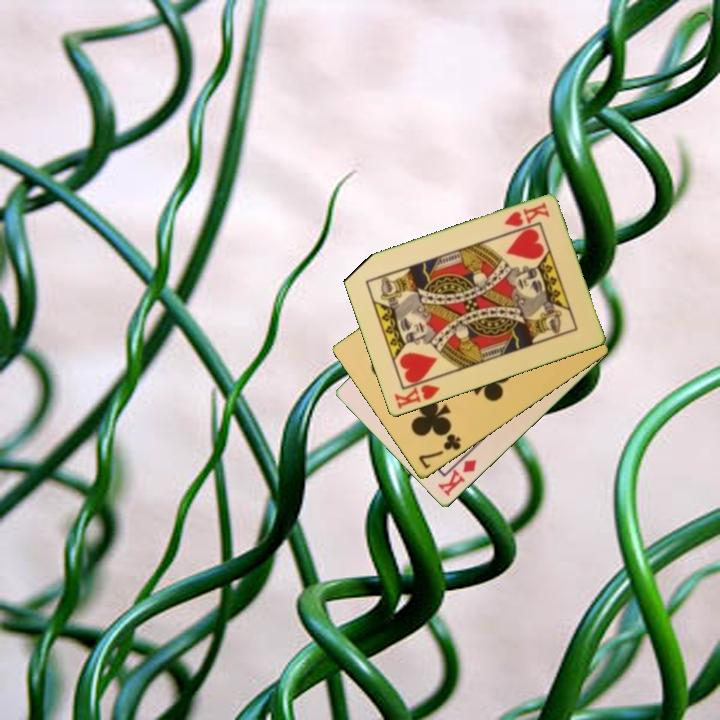7c: (415, 430, 464, 472)
Kd: (434, 456, 480, 500)
Kh: (391, 374, 443, 413), (500, 199, 552, 230)
